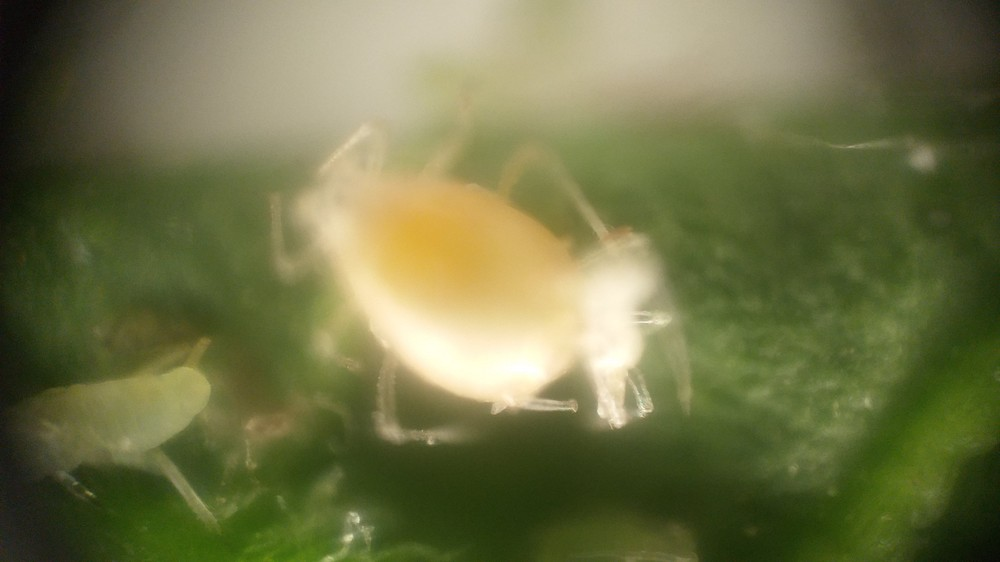Pulgon: (266, 107, 701, 445)
